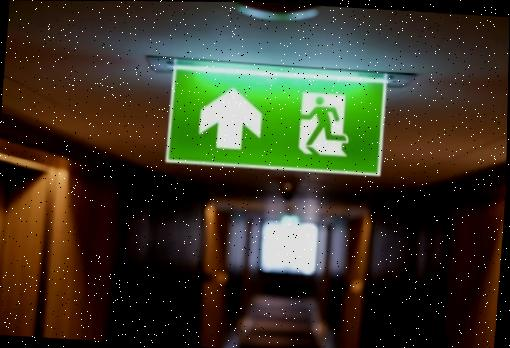emergency_exit: (163, 58, 393, 178)
